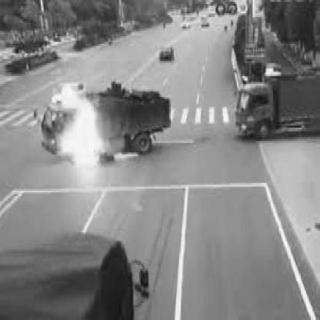Fire: (53, 89, 103, 173)
